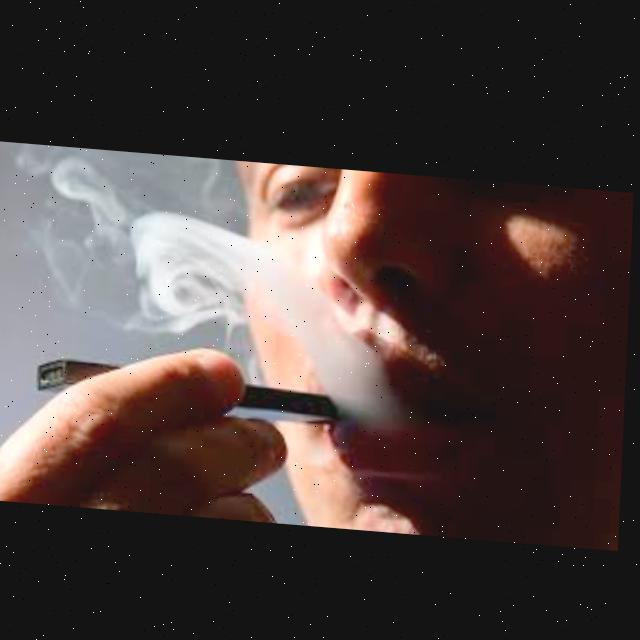vape: (40, 358, 344, 420)
